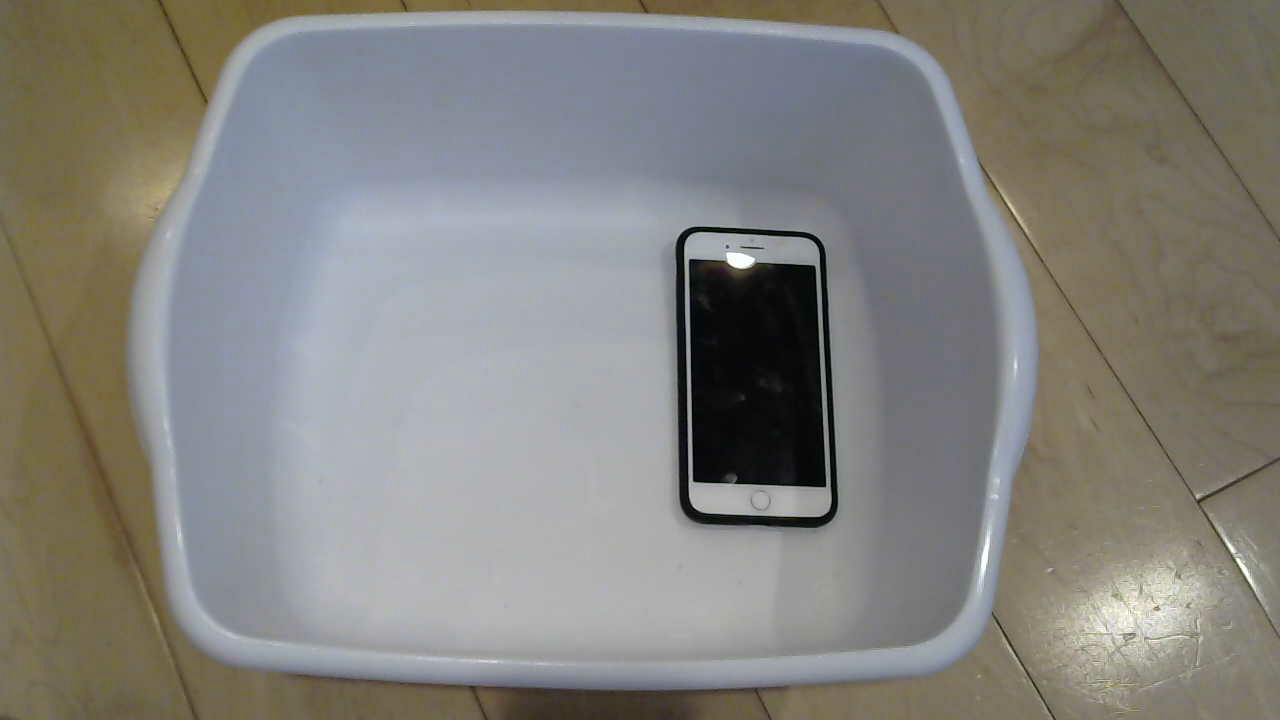phone: (670, 224, 855, 535)
